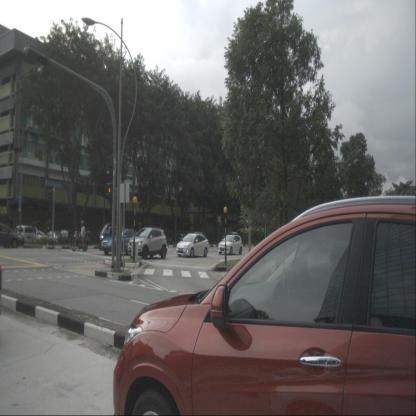vehicle-car: (113, 195, 416, 416), (127, 226, 168, 260), (99, 228, 141, 256), (176, 233, 209, 258), (0, 223, 24, 249), (218, 234, 242, 255), (12, 225, 34, 244), (29, 230, 48, 244), (44, 231, 63, 245), (56, 230, 75, 243)
vehicle-motorcycle: (71, 220, 89, 252), (98, 224, 117, 251)
